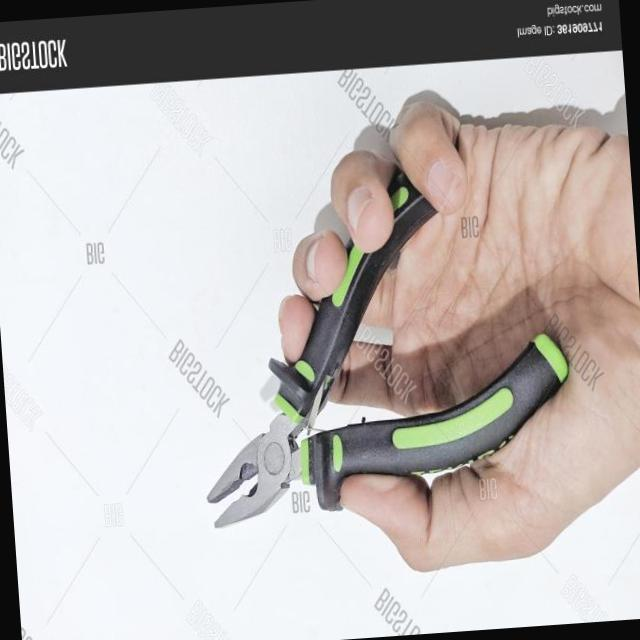pliers: (207, 172, 567, 527)
